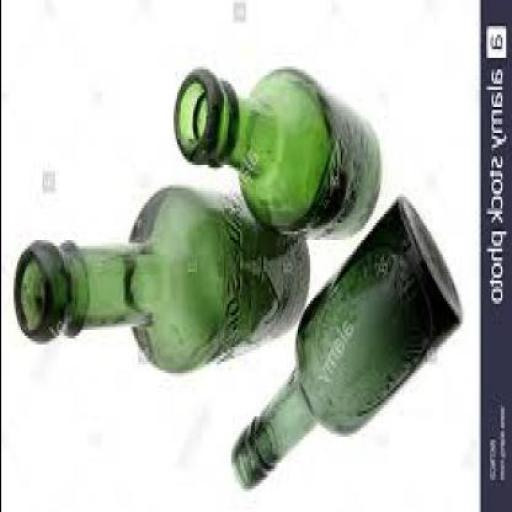glass: (232, 193, 460, 486), (12, 182, 308, 371), (170, 60, 380, 238)
